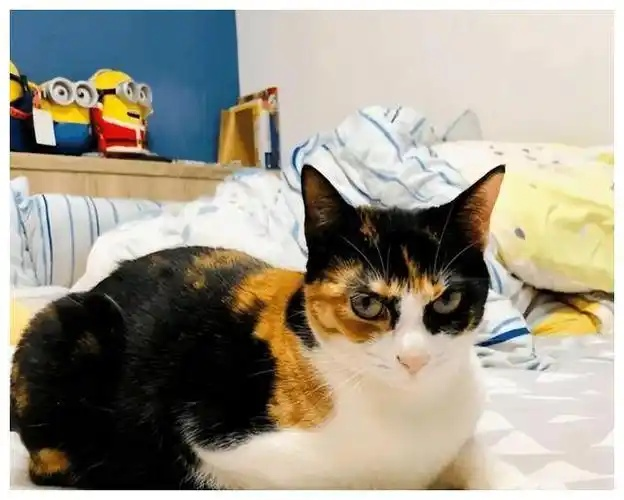三花猫: (197, 168, 503, 488), (12, 247, 330, 488), (70, 169, 306, 291)
